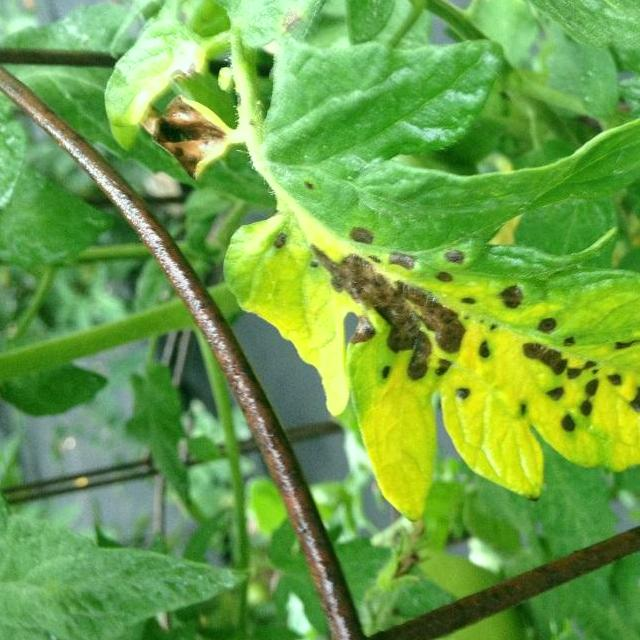Tomato leaf bacterial spot: (207, 182, 640, 523)
